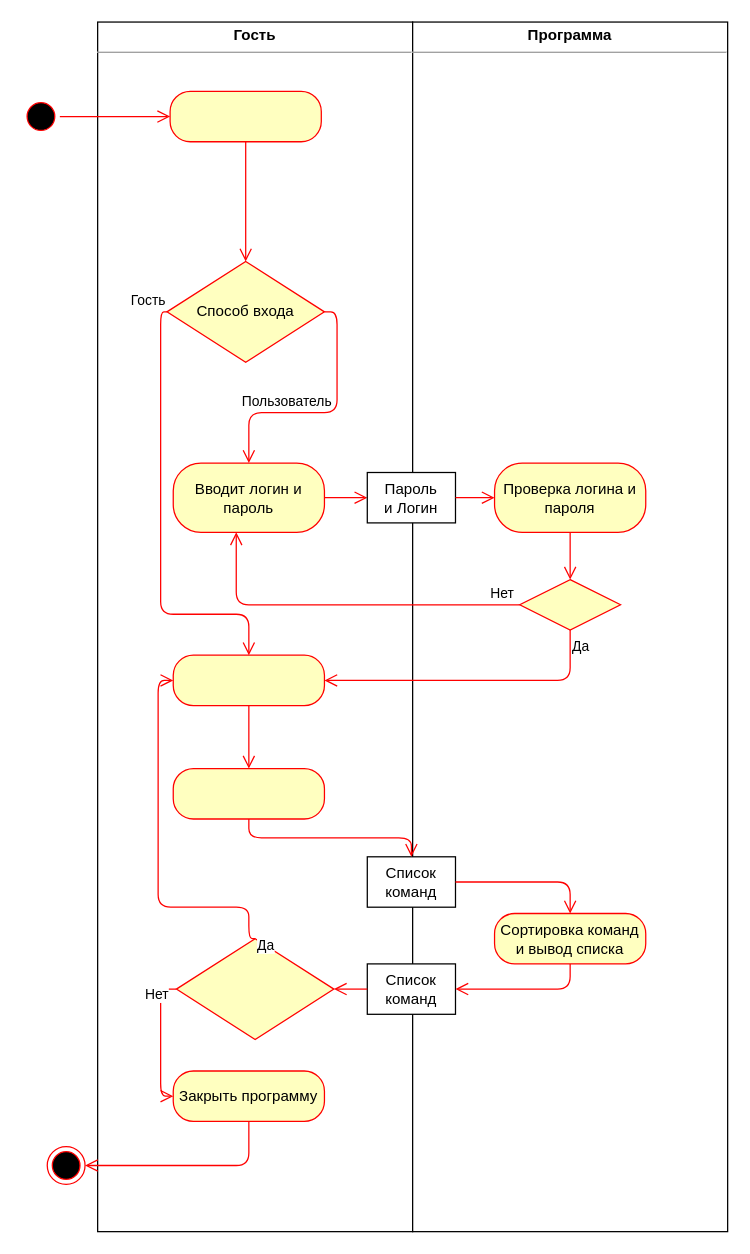
The diagram is 750 pixels wide and 1254 high, and some of its shapes have lost their labels. Each missing label, with the centre of its shape:
Верно?: pixel 569 604
Выбор операции: pixel 248 680
Выполнить ещё операцию?: pixel 254 988
Открывает программу: pixel 245 116
Посмотреть рейтинг команд: pixel 248 793
